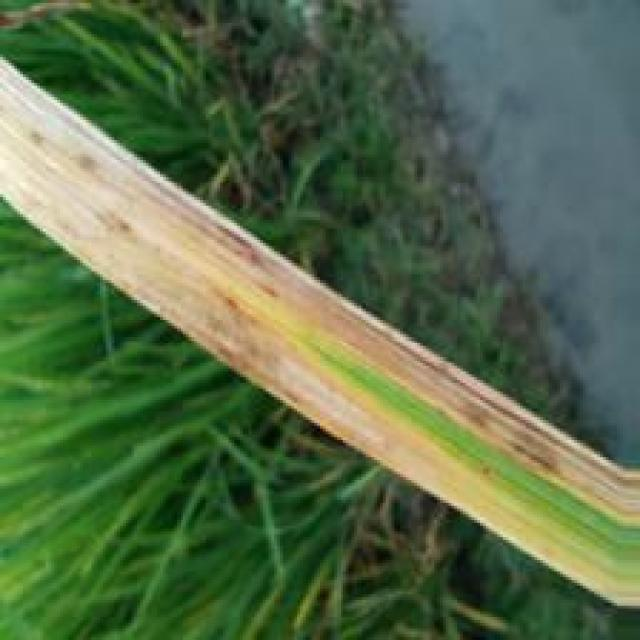Leaf_Scald: (1, 60, 640, 525)
